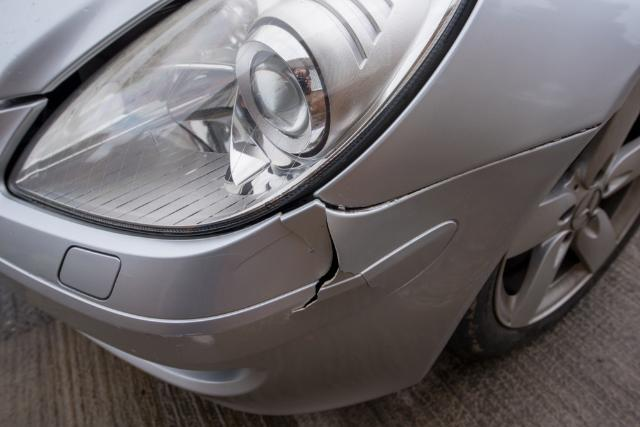crack: (289, 206, 388, 321), (233, 215, 314, 275)
